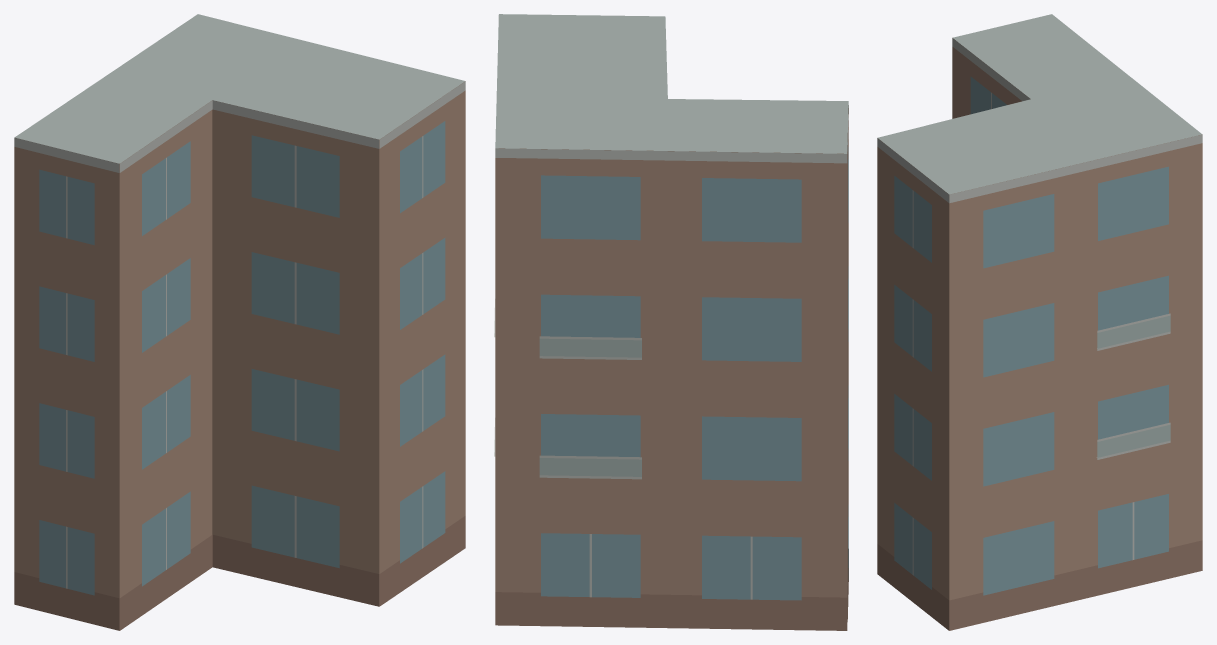
Rendered from survey-upis-32534649.glb.
The picture shows the model from 3 angles, left to right: view 1: azimuth 30°, elevation 25°; view 2: azimuth 150°, elevation 25°; view 3: azimuth 270°, elevation 25°; orthographic projection. The views are drawn at different scales.
Visible parts, largest first — view 1: survey-upis-32534649.tmp; view 2: survey-upis-32534649.tmp; view 3: survey-upis-32534649.tmp.
Part boxes in pixels (bbox=[...]): survey-upis-32534649.tmp: bbox=[14, 14, 465, 630]; survey-upis-32534649.tmp: bbox=[494, 14, 848, 630]; survey-upis-32534649.tmp: bbox=[877, 14, 1202, 630].
Size of the model in its own units: 10.84 by 12.2 by 8.25.
